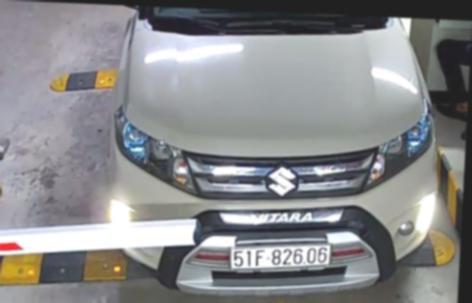License_Plate: (227, 238, 337, 275)
